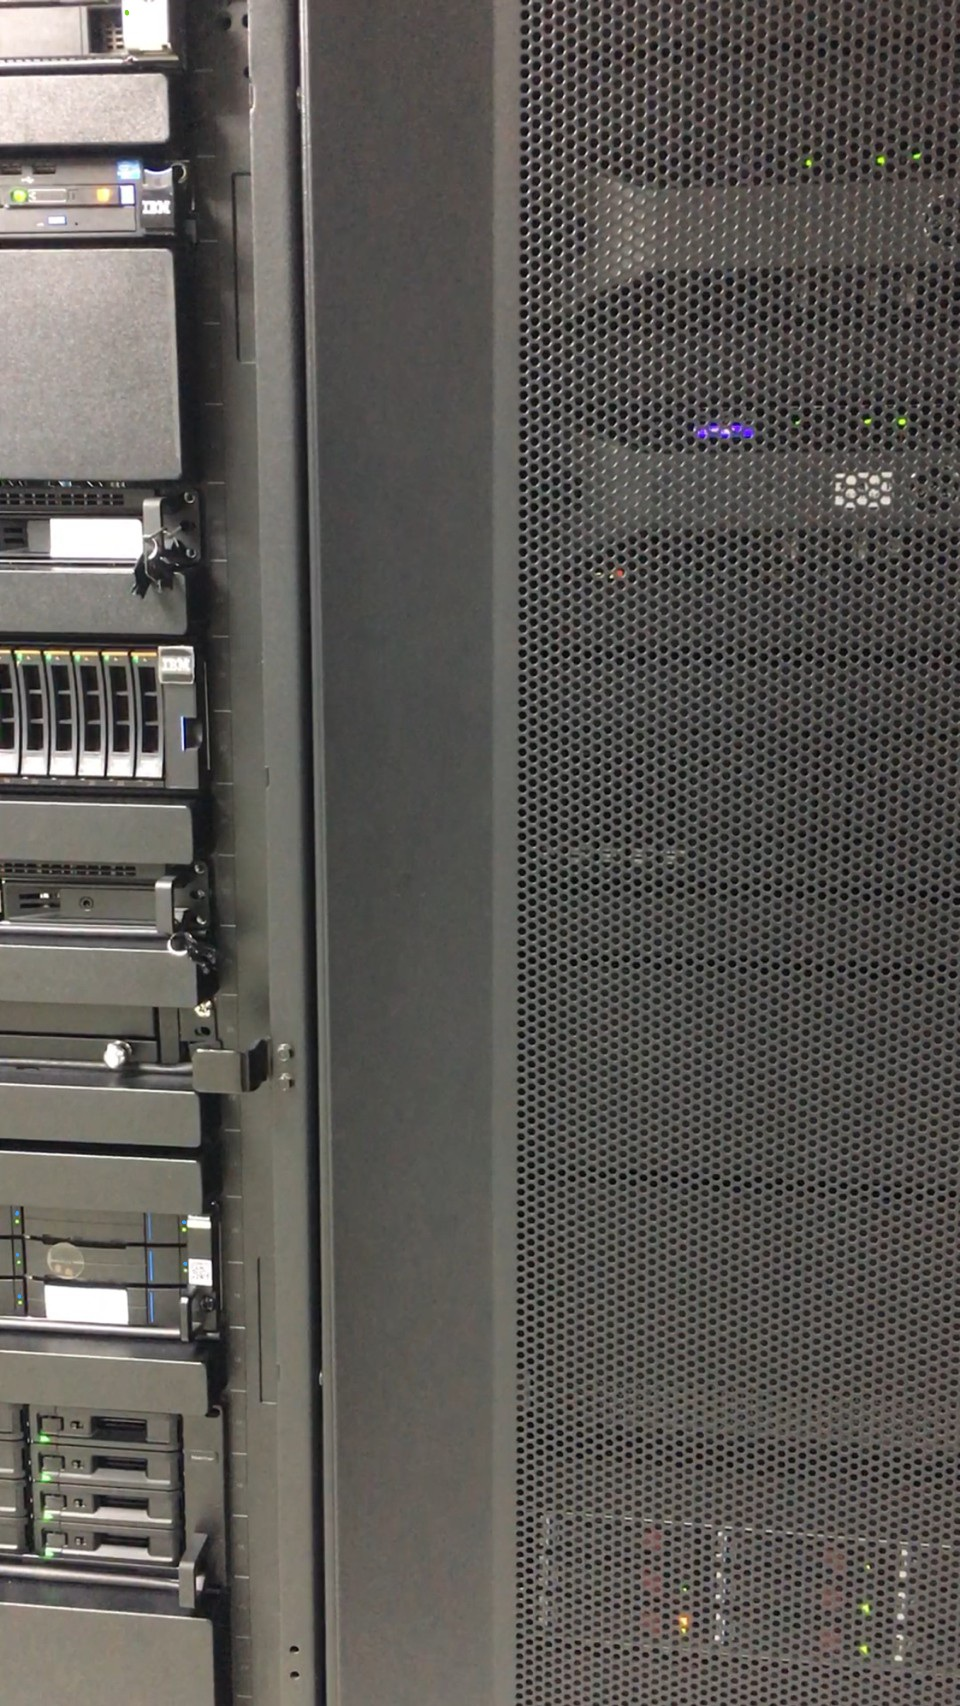HDD_normal: (4, 1197, 199, 1340)
